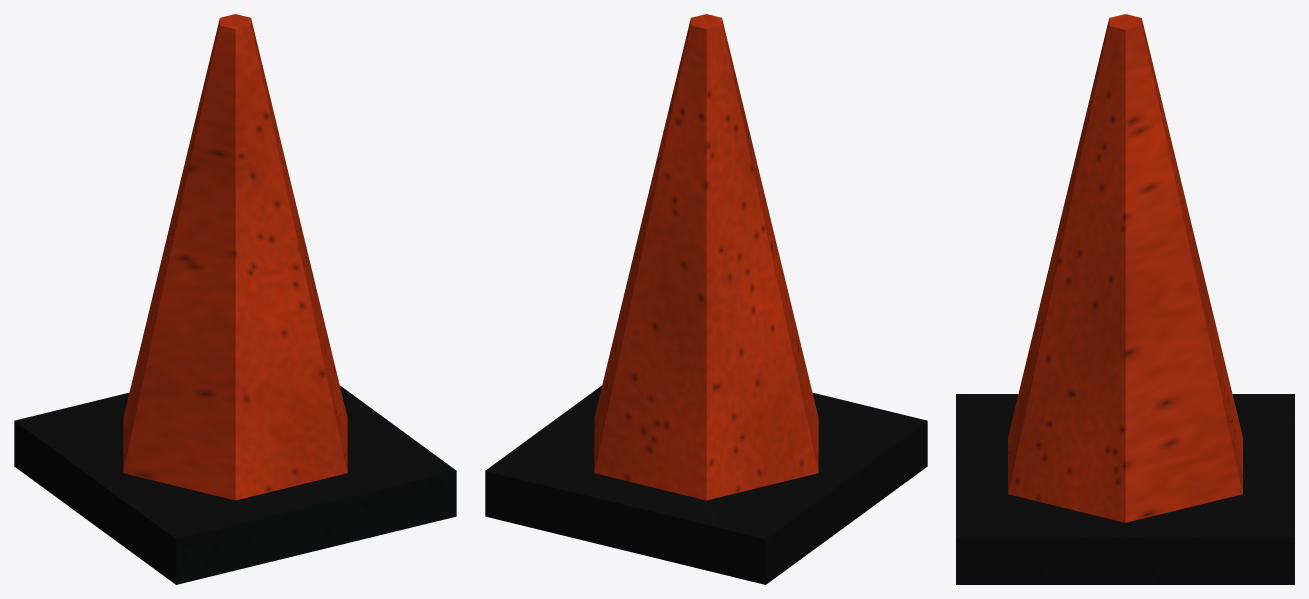
File: PROP-137C8FF83416_lod2.glb
The picture shows the model from 3 angles, left to right: view 1: azimuth 30°, elevation 25°; view 2: azimuth 150°, elevation 25°; view 3: azimuth 270°, elevation 25°; orthographic projection. The views are drawn at different scales.
Visible parts, largest first — view 1: cone.001, cone_base.001; view 2: cone.001, cone_base.001; view 3: cone.001, cone_base.001.
Part boxes in pixels (box(x1,y1,x2,y2)): cone.001: box(123, 14, 347, 500); cone_base.001: box(14, 385, 456, 584); cone.001: box(594, 14, 818, 500); cone_base.001: box(485, 385, 927, 584); cone.001: box(1008, 14, 1242, 522); cone_base.001: box(956, 394, 1294, 584).
Size of the model in its own units: 0.45 by 0.72 by 0.45.
Materials: 2 (2 with a texture image).
